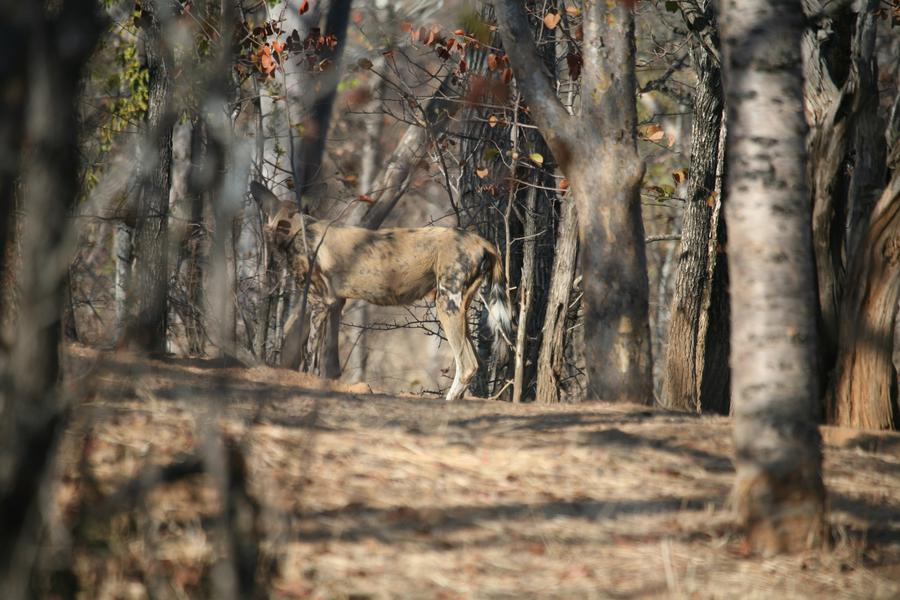wilddog: (255, 187, 473, 324)
